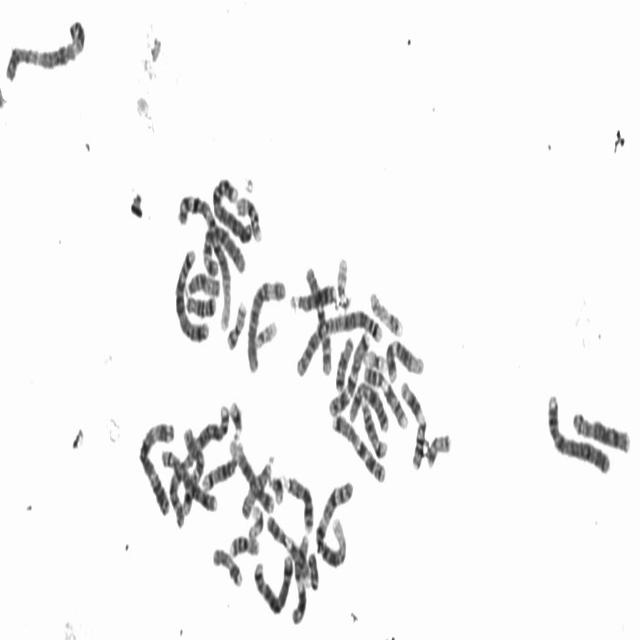A1: (174, 185, 234, 334), (313, 472, 355, 570)
A2: (167, 395, 232, 528), (292, 302, 386, 378)
A3: (2, 10, 89, 83), (135, 412, 177, 518)
B4: (544, 385, 613, 477), (209, 167, 254, 245)
B5: (171, 241, 212, 344), (251, 545, 295, 617)
C10: (303, 258, 334, 377), (179, 424, 206, 518)
C11: (397, 373, 429, 471), (289, 526, 311, 626)
C12: (228, 431, 276, 516), (383, 330, 427, 383)
C6: (245, 270, 288, 374), (200, 218, 248, 278)
C7: (329, 407, 388, 485), (326, 322, 372, 419)
C8: (158, 441, 220, 514), (569, 401, 633, 456)
C9: (361, 355, 410, 431), (264, 506, 312, 583)
D13: (282, 467, 316, 534), (288, 275, 339, 313)
D14: (358, 391, 390, 460), (198, 446, 240, 492)
D15: (238, 452, 276, 521), (183, 265, 222, 299)
E16: (234, 187, 264, 243), (227, 527, 262, 558)
E17: (367, 283, 406, 339), (209, 542, 244, 593)
E18: (332, 328, 356, 392), (183, 286, 218, 319)
F19: (246, 497, 265, 541), (362, 343, 387, 373)
F20: (224, 292, 249, 352), (424, 424, 454, 470)
G21: (227, 391, 244, 442), (267, 466, 286, 506)
G22: (251, 311, 280, 352), (334, 248, 351, 307)
X: (346, 374, 390, 433)
Y: (305, 546, 321, 592)
